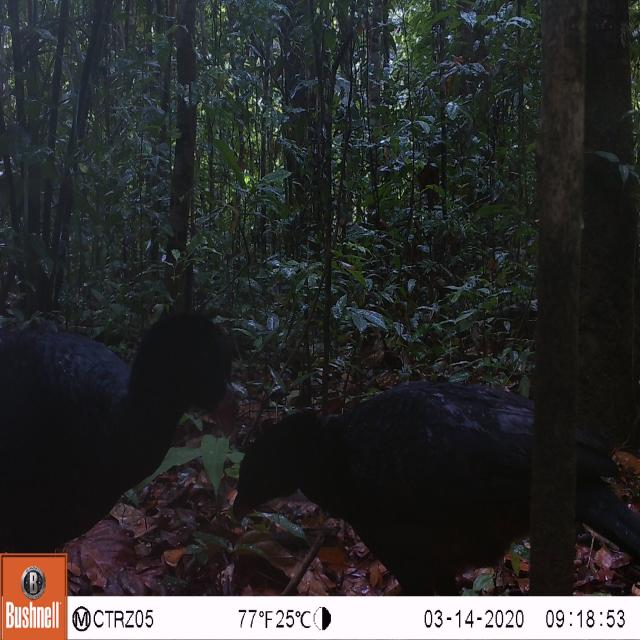Salvins Curassow: (216, 386, 554, 591), (0, 266, 248, 545)
